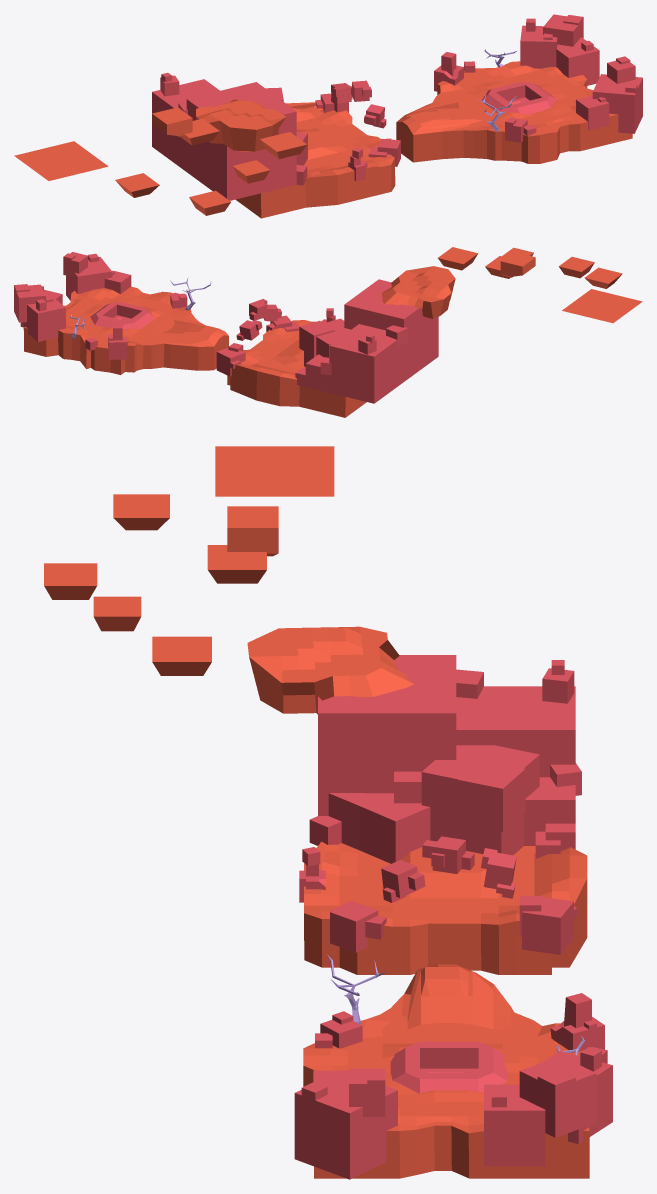
The model's file is tutorial.glb.
The picture shows the model from 3 angles, top to bottom: view 1: azimuth 30°, elevation 25°; view 2: azimuth 150°, elevation 25°; view 3: azimuth 270°, elevation 25°; orthographic projection. The views are drawn at different scales.
Parts seen in each view (by area): view 1: L1, L2Rocks, L3, L1Rocks, L2, Hole, Trees; view 2: L2Rocks, L1, L3, L2, L1Rocks, Hole, Trees; view 3: L2Rocks, L3, L1, L2, L1Rocks, Hole.
Part boxes in pixels (x1,y1,x2,y2): L1: (396,61,632,163); L2Rocks: (152,72,400,200); L3: (14,99,307,215); L1Rocks: (434,14,642,142); L2: (235,102,395,218); Hole: (481,82,556,114); Trees: (478,49,516,131); L2Rocks: (216,279,438,403); L1: (24,286,228,374); L3: (381,247,642,323); L2: (227,320,366,417); L1Rocks: (14,252,187,359); Hole: (90,302,154,329); Trees: (70,277,211,338); L2Rocks: (299,655,581,954); L3: (44,446,413,714); L1: (303,964,589,1178); L2: (304,841,587,974); L1Rocks: (294,993,612,1179); Hole: (390,1041,507,1093).
Bounding box in the file's own units: 95.96 × 22.04 × 43.45.
